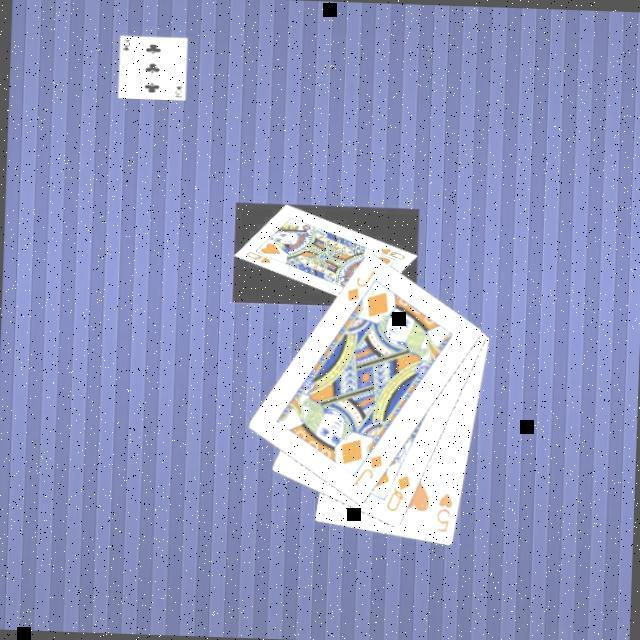5H: (431, 487, 455, 534)
JD: (341, 263, 377, 304), (348, 449, 384, 488)
QD: (380, 469, 412, 514)
